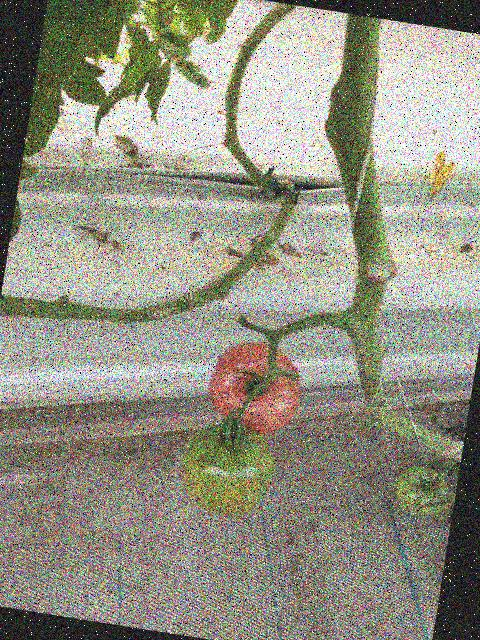b_fully_ripened: (203, 333, 308, 441)
b_green: (174, 417, 280, 522), (391, 463, 452, 519)
